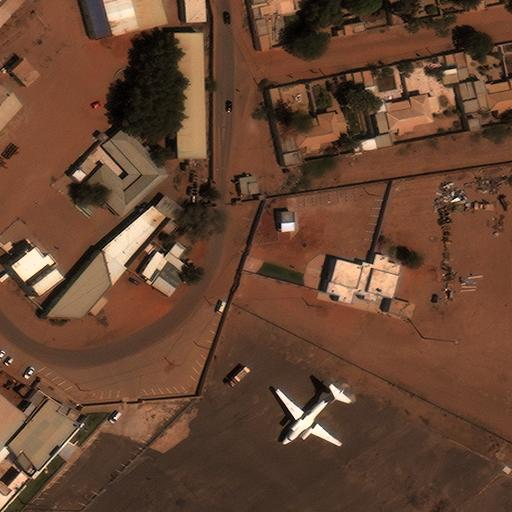Military Transport: (275, 389, 344, 446)
